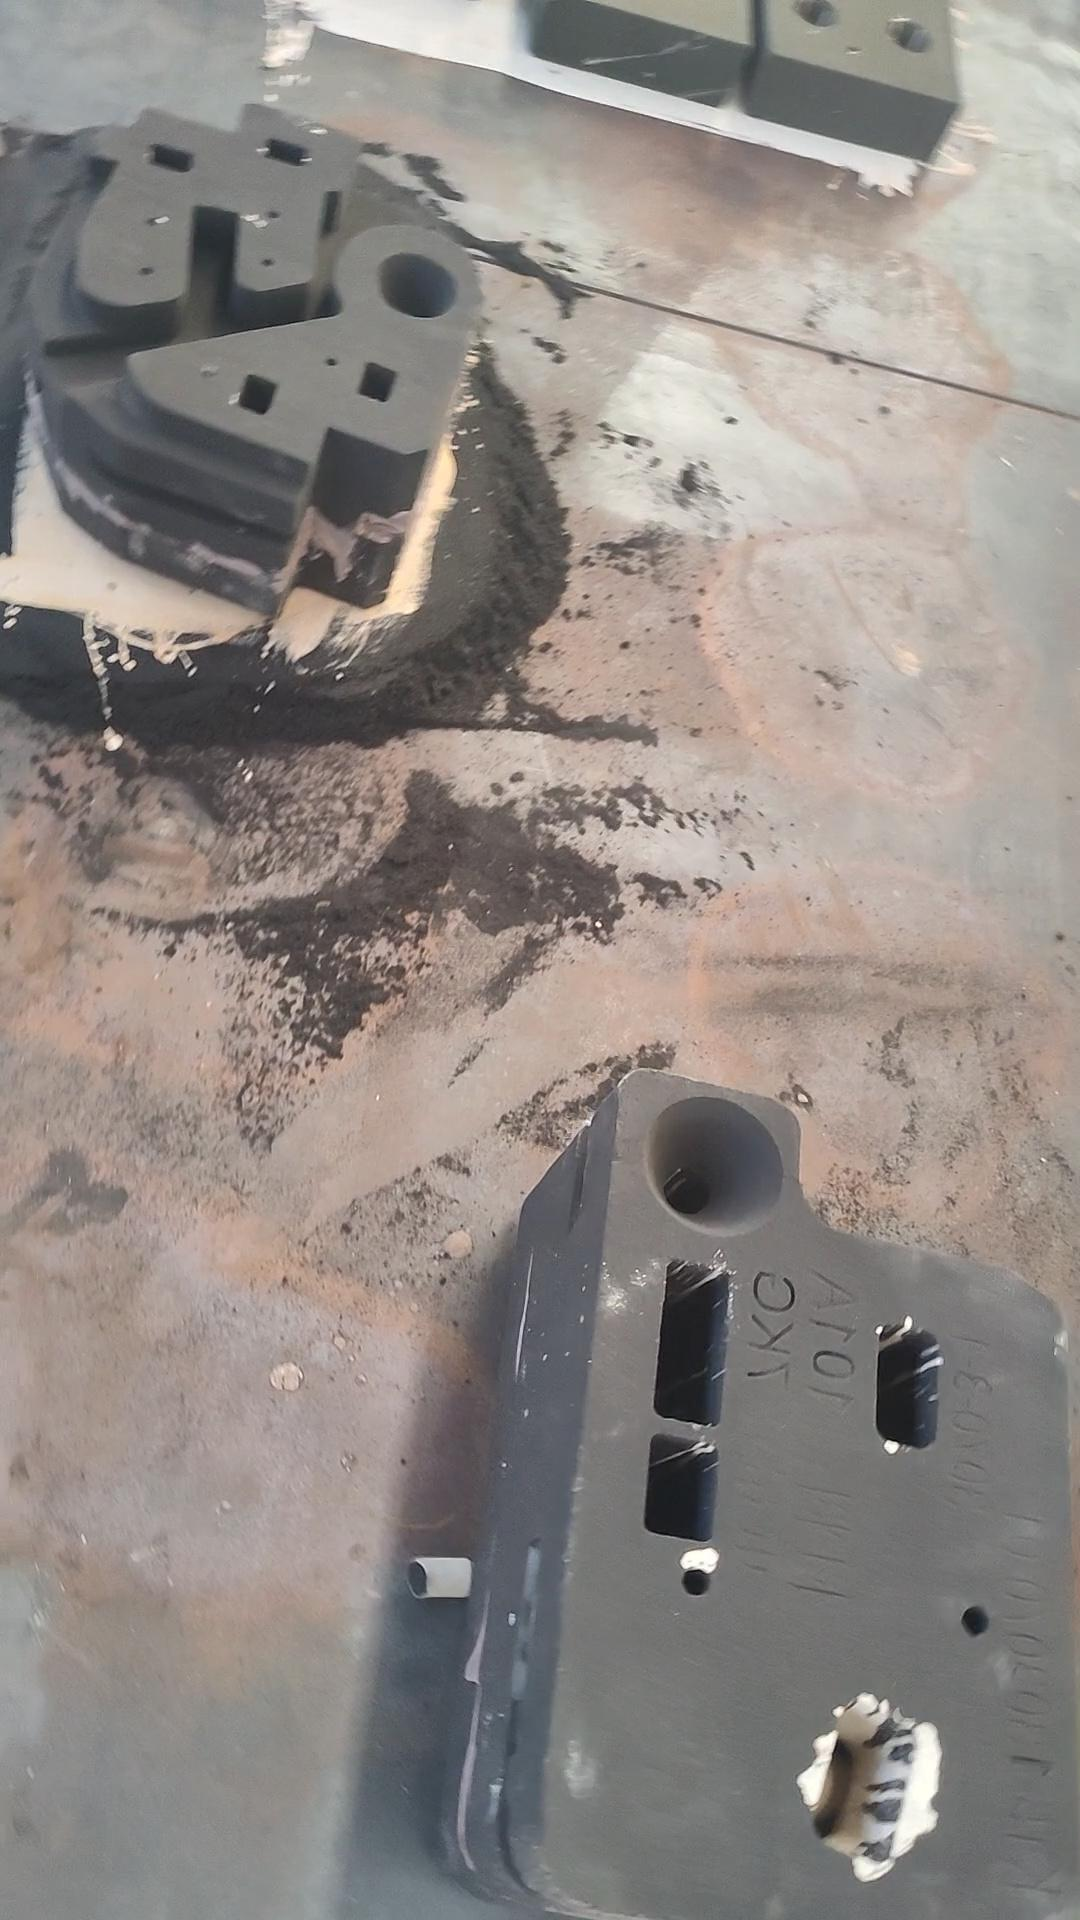pouring hole: (642, 1095, 785, 1236), (378, 255, 456, 316), (882, 15, 934, 55), (791, 1, 839, 32)
